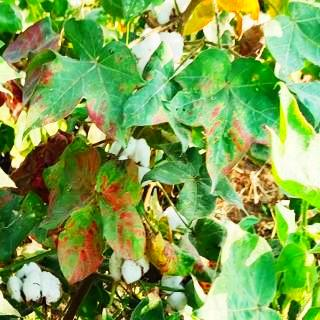blight: (14, 16, 150, 139), (168, 48, 290, 182), (45, 152, 149, 282)
